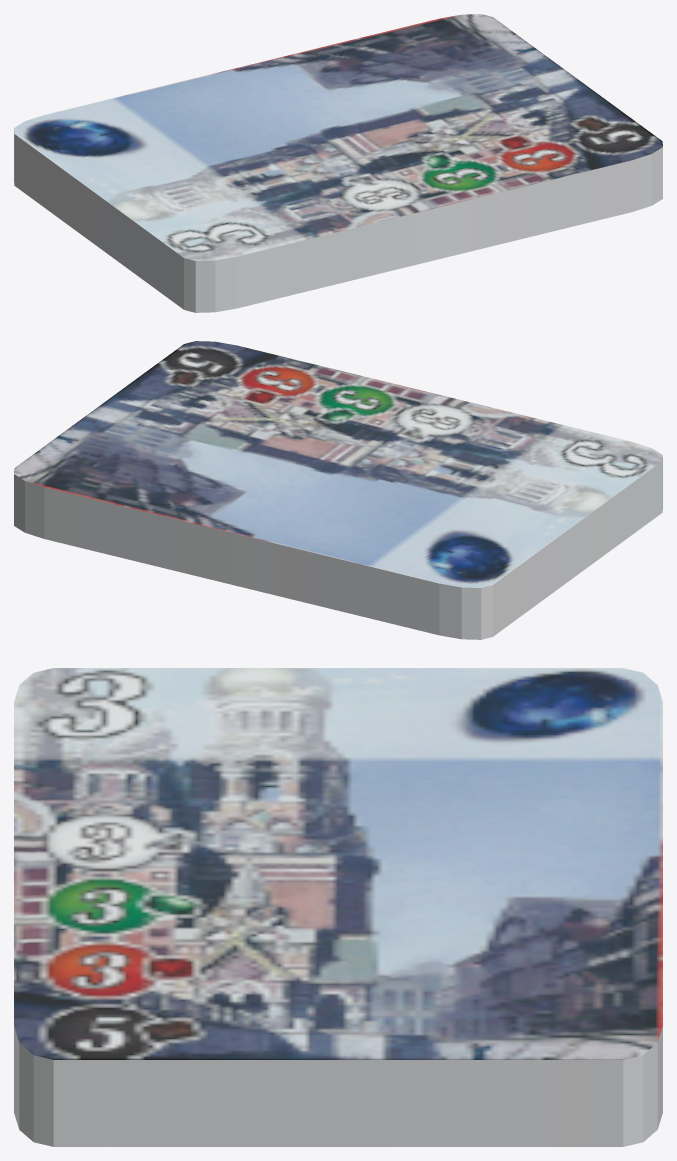
Rendered from blue_deck.fbx.
3 renders of one model, top to bottom at view 1: azimuth 30°, elevation 25°; view 2: azimuth 150°, elevation 25°; view 3: azimuth 270°, elevation 25°, orthographic. The views are drawn at different scales.
Parts seen in each view (by area): view 1: Card1; view 2: Card1; view 3: Card1.
Part boxes in pixels (x1,y1,x2,y2): Card1: (14,14,662,312); Card1: (14,341,662,639); Card1: (14,668,662,1146).
Bounding box in the file's own units: 700 × 72.51 × 490.
